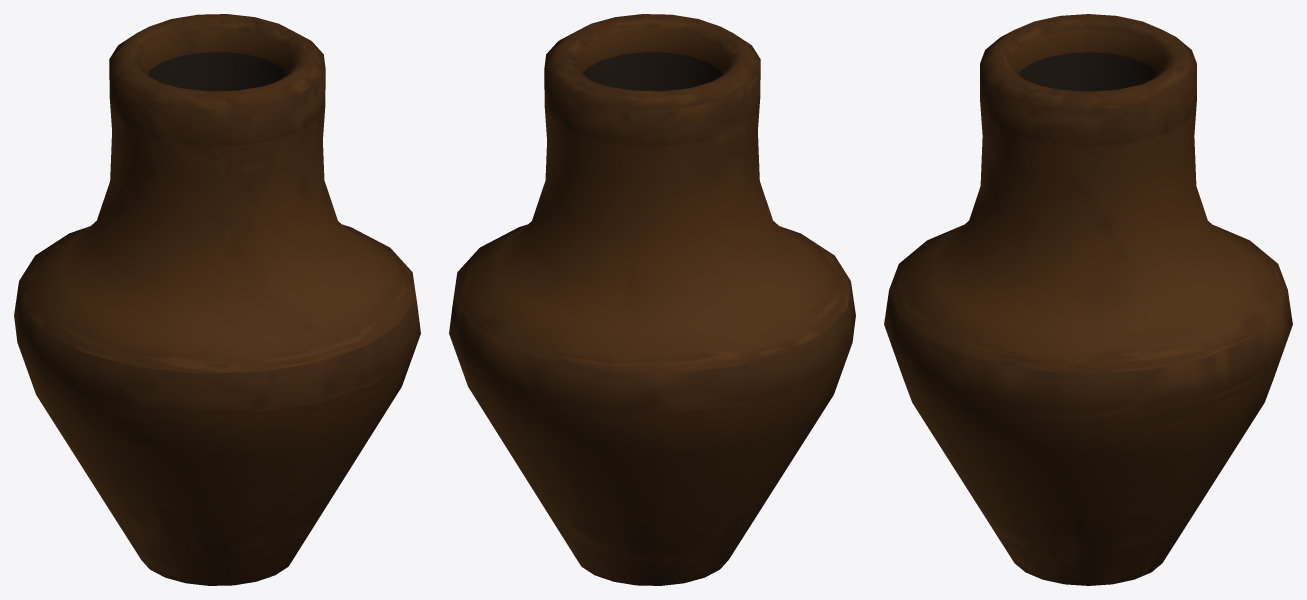
Rendered from Vase 4.glb.
The picture shows the model from 3 angles, left to right: view 1: azimuth 30°, elevation 25°; view 2: azimuth 150°, elevation 25°; view 3: azimuth 270°, elevation 25°; orthographic projection.
Visible parts, largest first — view 1: Vase_4; view 2: Vase_4; view 3: Vase_4.
Boxes of the visible parts, x1,y1,x2,y2 form: Vase_4: (14, 14, 420, 585); Vase_4: (449, 14, 855, 585); Vase_4: (884, 14, 1292, 585).
Bounding box in the file's own units: 0.3596 × 0.4855 × 0.3596.
Materials: 1 (1 with a texture image).
